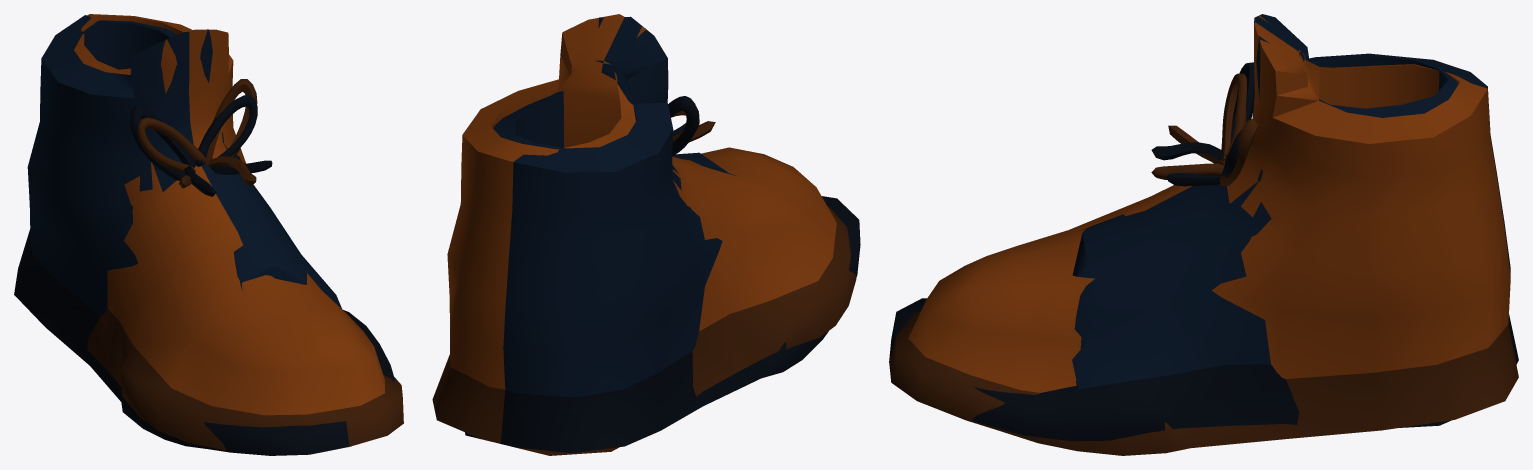
File: Boots.FBX
The picture shows the model from 3 angles, left to right: view 1: azimuth 30°, elevation 25°; view 2: azimuth 150°, elevation 25°; view 3: azimuth 270°, elevation 25°; orthographic projection. The views are drawn at different scales.
Parts seen in each view (by area): view 1: LeatherBoot, OldBoot; view 2: OldBoot, LeatherBoot; view 3: LeatherBoot, OldBoot.
Boxes of the visible parts, x1,y1,x2,y2 form: LeatherBoot: (74,14,403,450); OldBoot: (14,15,394,455); OldBoot: (465,16,860,453); LeatherBoot: (432,14,856,455); LeatherBoot: (889,15,1518,455); OldBoot: (889,14,1518,441).
Size of the model in its own units: 18.76 by 39.27 by 25.94.
